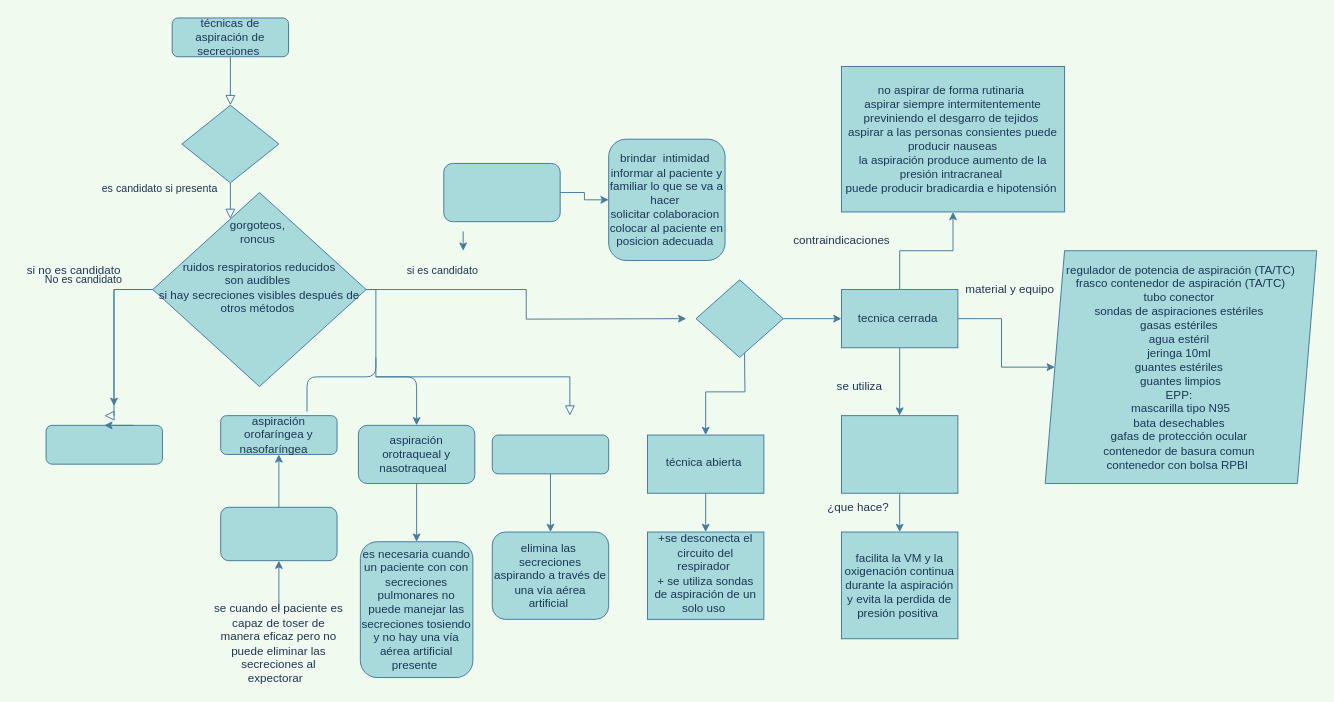
The diagram is 1334 pixels wide and 702 high, and some of its shapes have lost their labels. The centre of each missing label's shape, as x and y in pixels:
+ en pacientes a VM (no se desconecta el circuito del respirador): the point at 899,454
Aspiración traqueal por TET: the point at 550,454
eliminar mediante aspiración, las secreciones de boca, nariz, faringe: the point at 278,533
preparación el paciente: the point at 501,192
técnicas: the point at 739,318
valoracion de enfermeria: the point at 230,143
vigilancia: the point at 103,444
